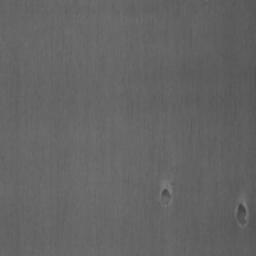Rolled pit: (235, 201, 249, 227), (160, 185, 172, 206)
